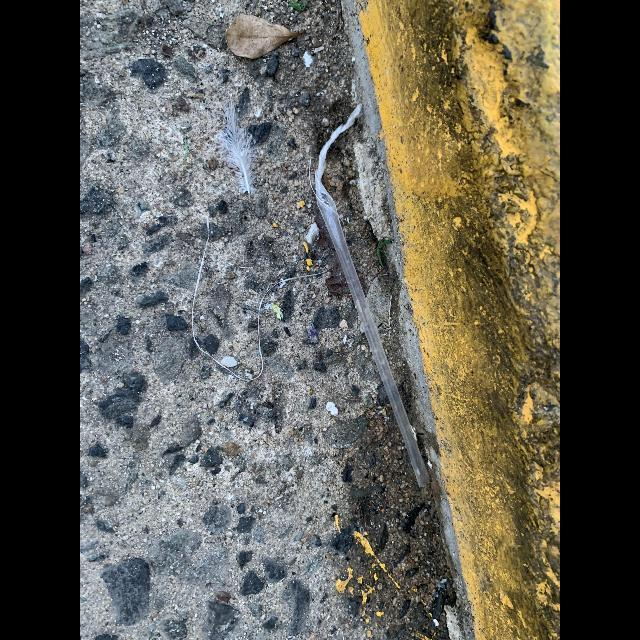Plastic: (315, 104, 429, 486)
